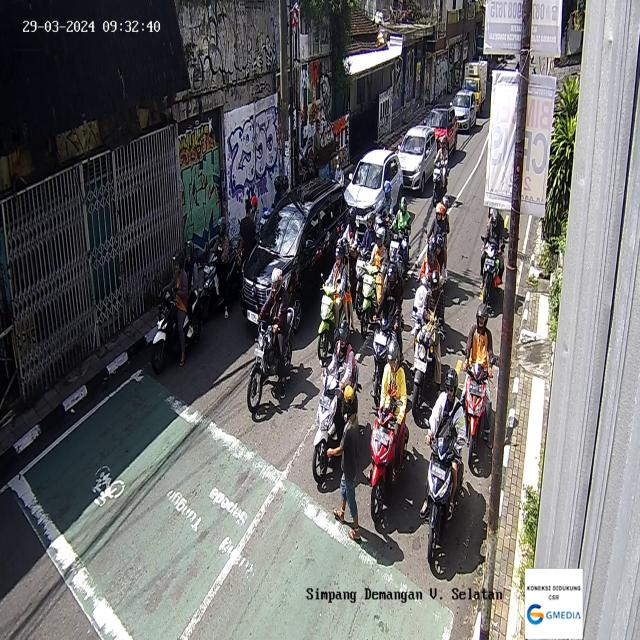car: (240, 177, 349, 334), (344, 147, 403, 230), (396, 124, 438, 194), (424, 104, 458, 156), (450, 88, 477, 134)
motorcycle: (423, 368, 465, 564), (312, 321, 359, 483), (369, 341, 409, 519), (247, 267, 296, 412), (151, 239, 203, 375), (459, 304, 495, 467), (369, 256, 406, 406), (410, 270, 445, 414), (317, 246, 356, 366), (200, 216, 240, 322), (412, 235, 445, 337), (360, 227, 388, 337), (479, 209, 507, 315), (355, 210, 377, 316), (426, 196, 450, 284), (259, 176, 290, 238), (336, 208, 357, 296), (388, 196, 410, 280), (373, 182, 394, 247), (236, 195, 261, 247), (432, 135, 449, 205), (332, 153, 346, 194), (299, 159, 316, 184)
truck: (462, 61, 487, 114)
